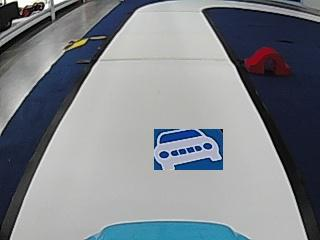bridge: (245, 46, 290, 75)
